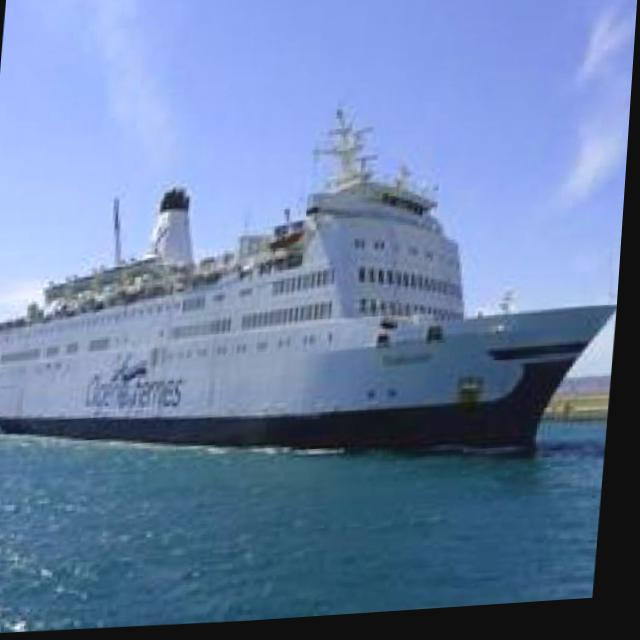ship2: (0, 110, 621, 463)
